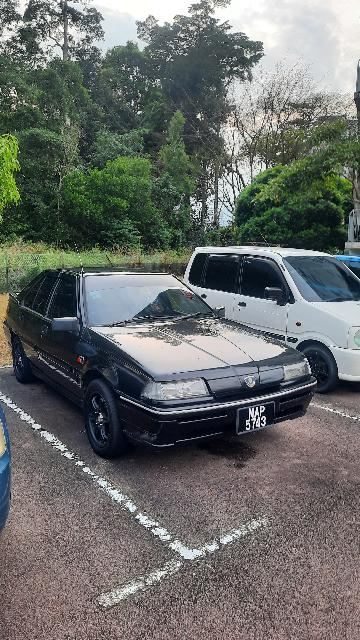License_Plate: (236, 401, 278, 437)
car: (7, 267, 321, 455)
